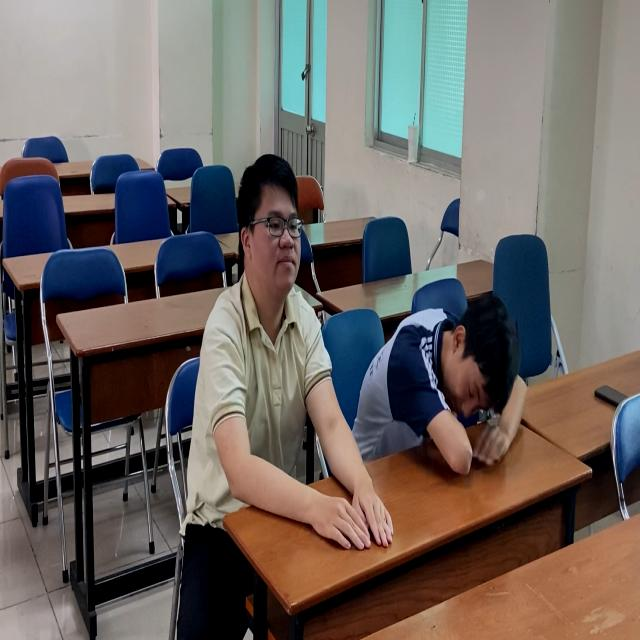sleep: (358, 287, 544, 471)
